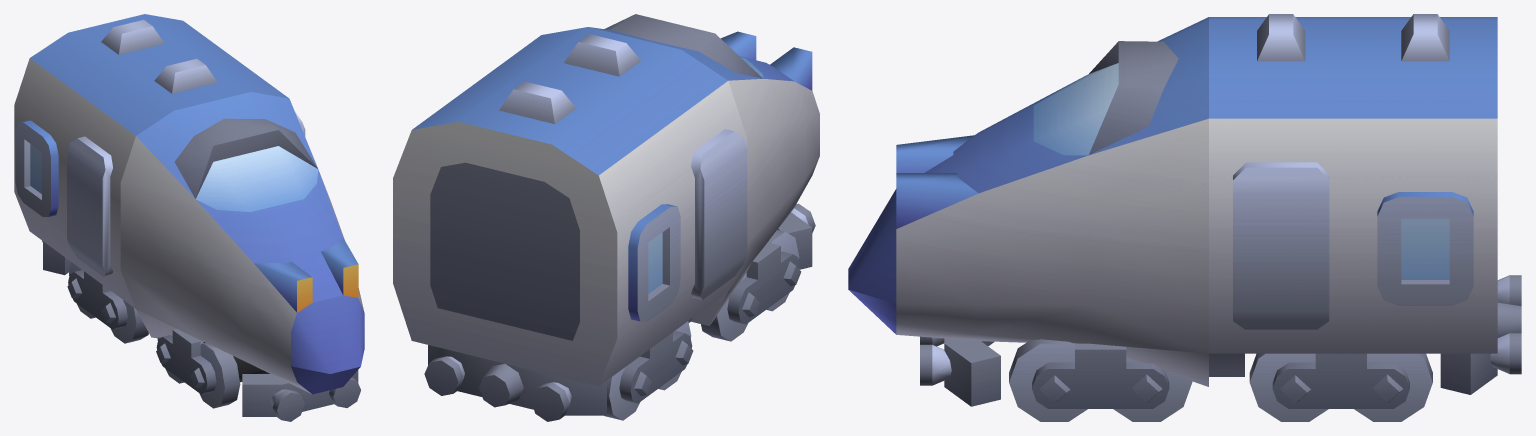
File: train-electric-bullet-a.glb
3 renders of one model, left to right at view 1: azimuth 30°, elevation 25°; view 2: azimuth 150°, elevation 25°; view 3: azimuth 270°, elevation 25°, orthographic. The views are drawn at different scales.
Visible parts, largest first — view 1: train-electric-bullet-a; view 2: train-electric-bullet-a; view 3: train-electric-bullet-a.
Part boxes in pixels (x1,y1,x2,y2): train-electric-bullet-a: [14, 14, 364, 421]; train-electric-bullet-a: [393, 14, 819, 421]; train-electric-bullet-a: [848, 14, 1521, 421].
Size of the model in its own units: 1.32 by 1.64 by 2.8.
1 material, 1 textured.
